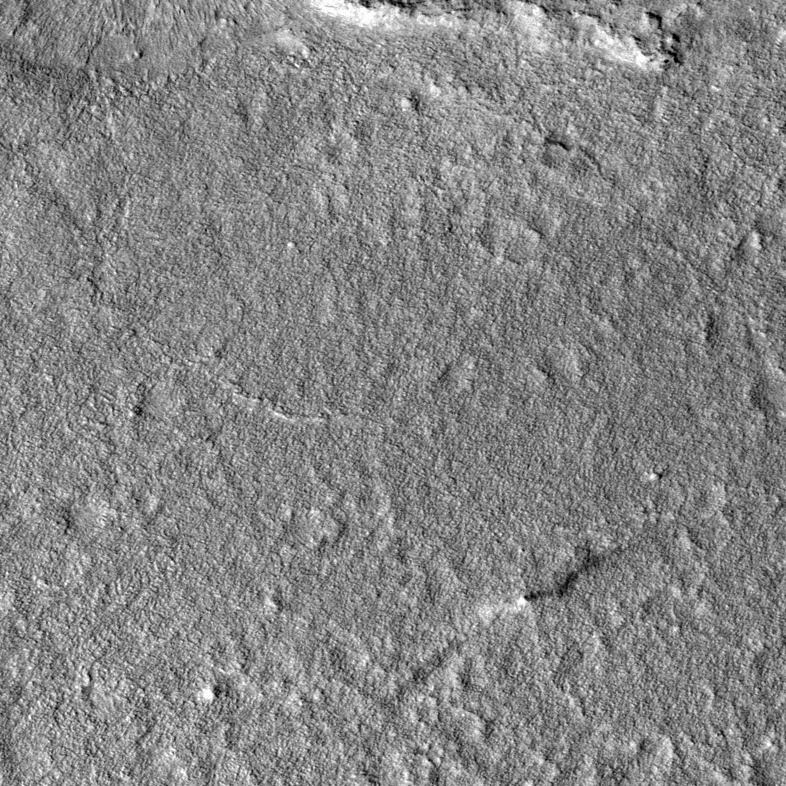dust_devil: (475, 545, 602, 628)
